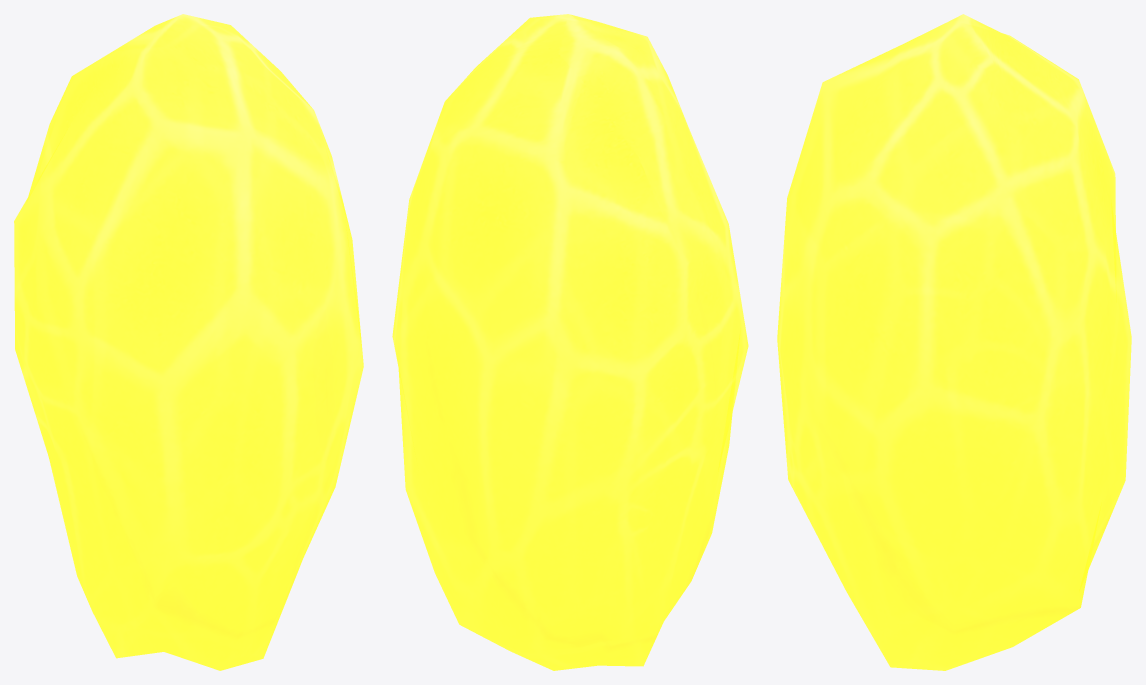
File: glowing_gem.glb
3 views of the same model, side by side, from view 1: azimuth 30°, elevation 25°; view 2: azimuth 150°, elevation 25°; view 3: azimuth 270°, elevation 25° (orthographic). The views are drawn at different scales.
Visible parts, largest first — view 1: Low; view 2: Low; view 3: Low.
Part boxes in pixels (<box>): Low: <box>14,14,363,670</box>; Low: <box>392,14,748,670</box>; Low: <box>777,14,1131,670</box>.
Bounding box in the file's own units: 0.1533 × 0.3159 × 0.1593.
1 material, 1 textured.
